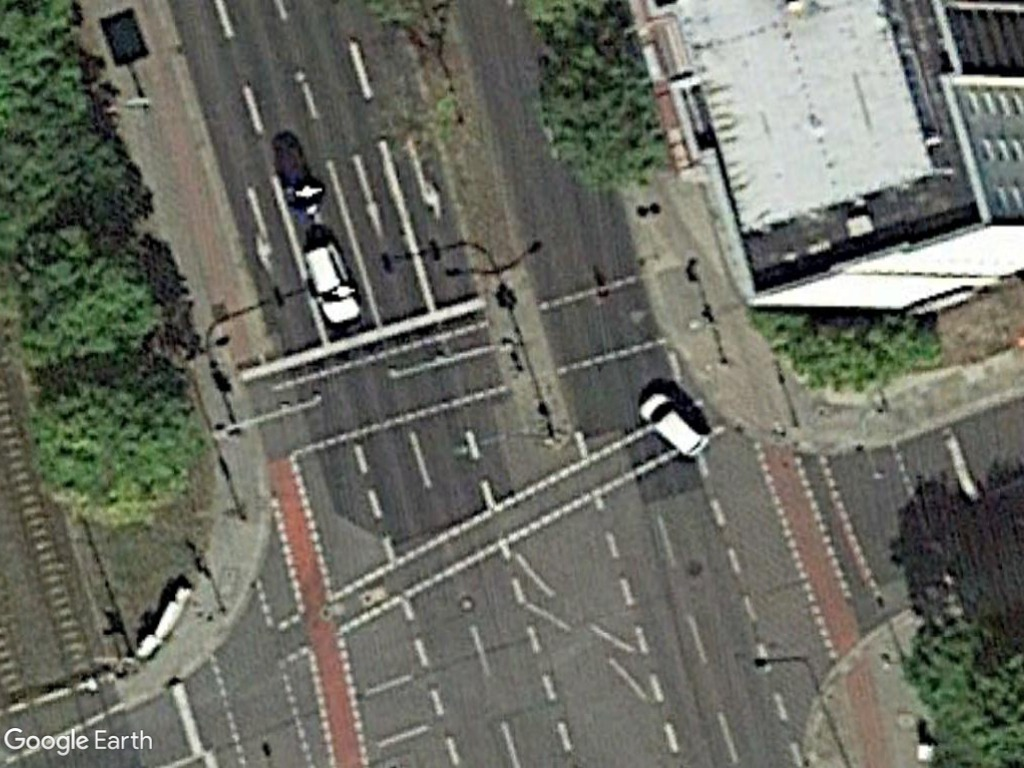car: (295, 229, 370, 334), (633, 381, 711, 461)
